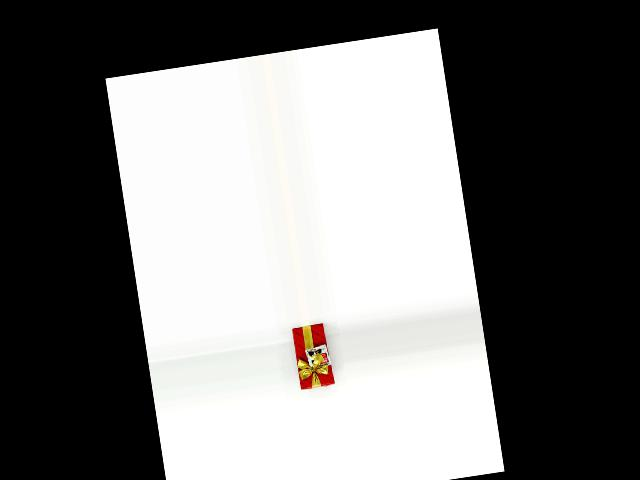chocolate: (288, 323, 335, 392)
